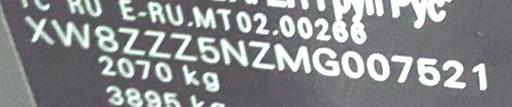letter: (50, 16, 94, 51), (273, 39, 311, 76), (114, 23, 148, 56), (218, 36, 252, 69), (24, 12, 56, 47), (312, 43, 342, 80), (142, 27, 174, 60), (168, 29, 198, 64), (388, 49, 416, 86), (248, 37, 276, 72), (440, 57, 468, 92), (468, 59, 496, 93), (194, 33, 222, 66), (340, 47, 366, 80), (415, 55, 441, 88), (92, 23, 120, 53), (365, 53, 391, 82)
